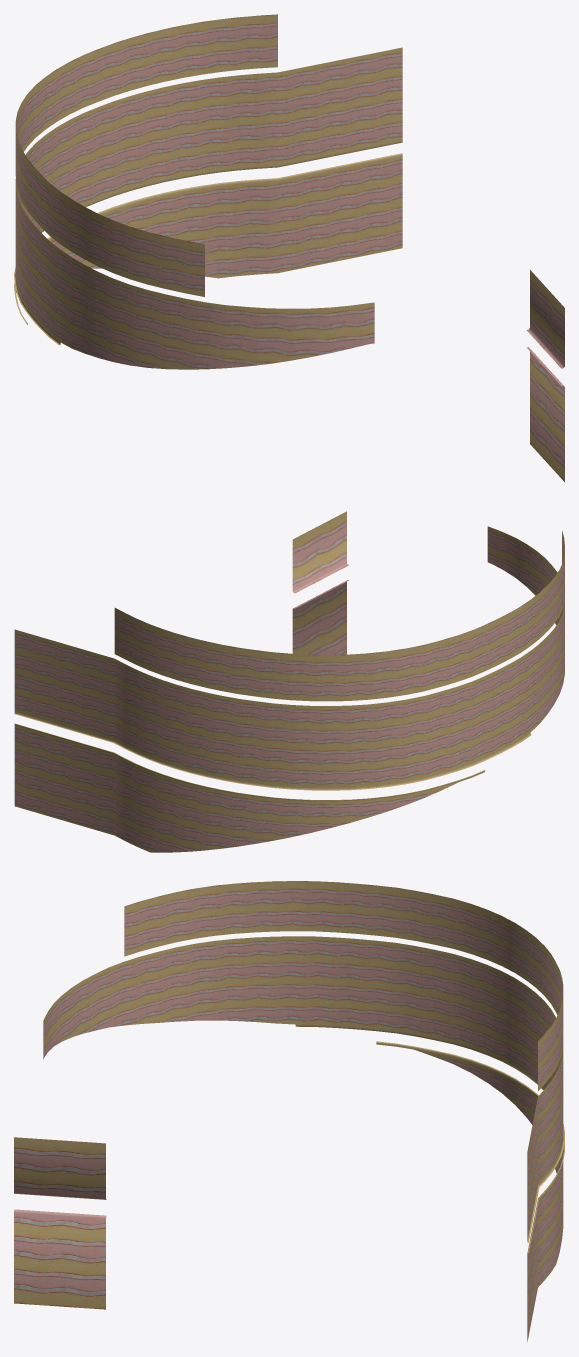
File: middle.fbx
3 views of the same model, one above another, from view 1: azimuth 30°, elevation 25°; view 2: azimuth 150°, elevation 25°; view 3: azimuth 270°, elevation 25° (orthographic). The views are drawn at different scales.
Visible parts, largest first — view 1: polySurface1248__ck_cakelayer05; view 2: polySurface1248__ck_cakelayer05; view 3: polySurface1248__ck_cakelayer05.
Boxes of the visible parts, x1,y1,x2,y2 form: polySurface1248__ck_cakelayer05: (14,14,564,481); polySurface1248__ck_cakelayer05: (14,511,564,852); polySurface1248__ck_cakelayer05: (14,881,564,1341).
Bounding box in the file's own units: 42.63 × 45.92 × 23.61.
